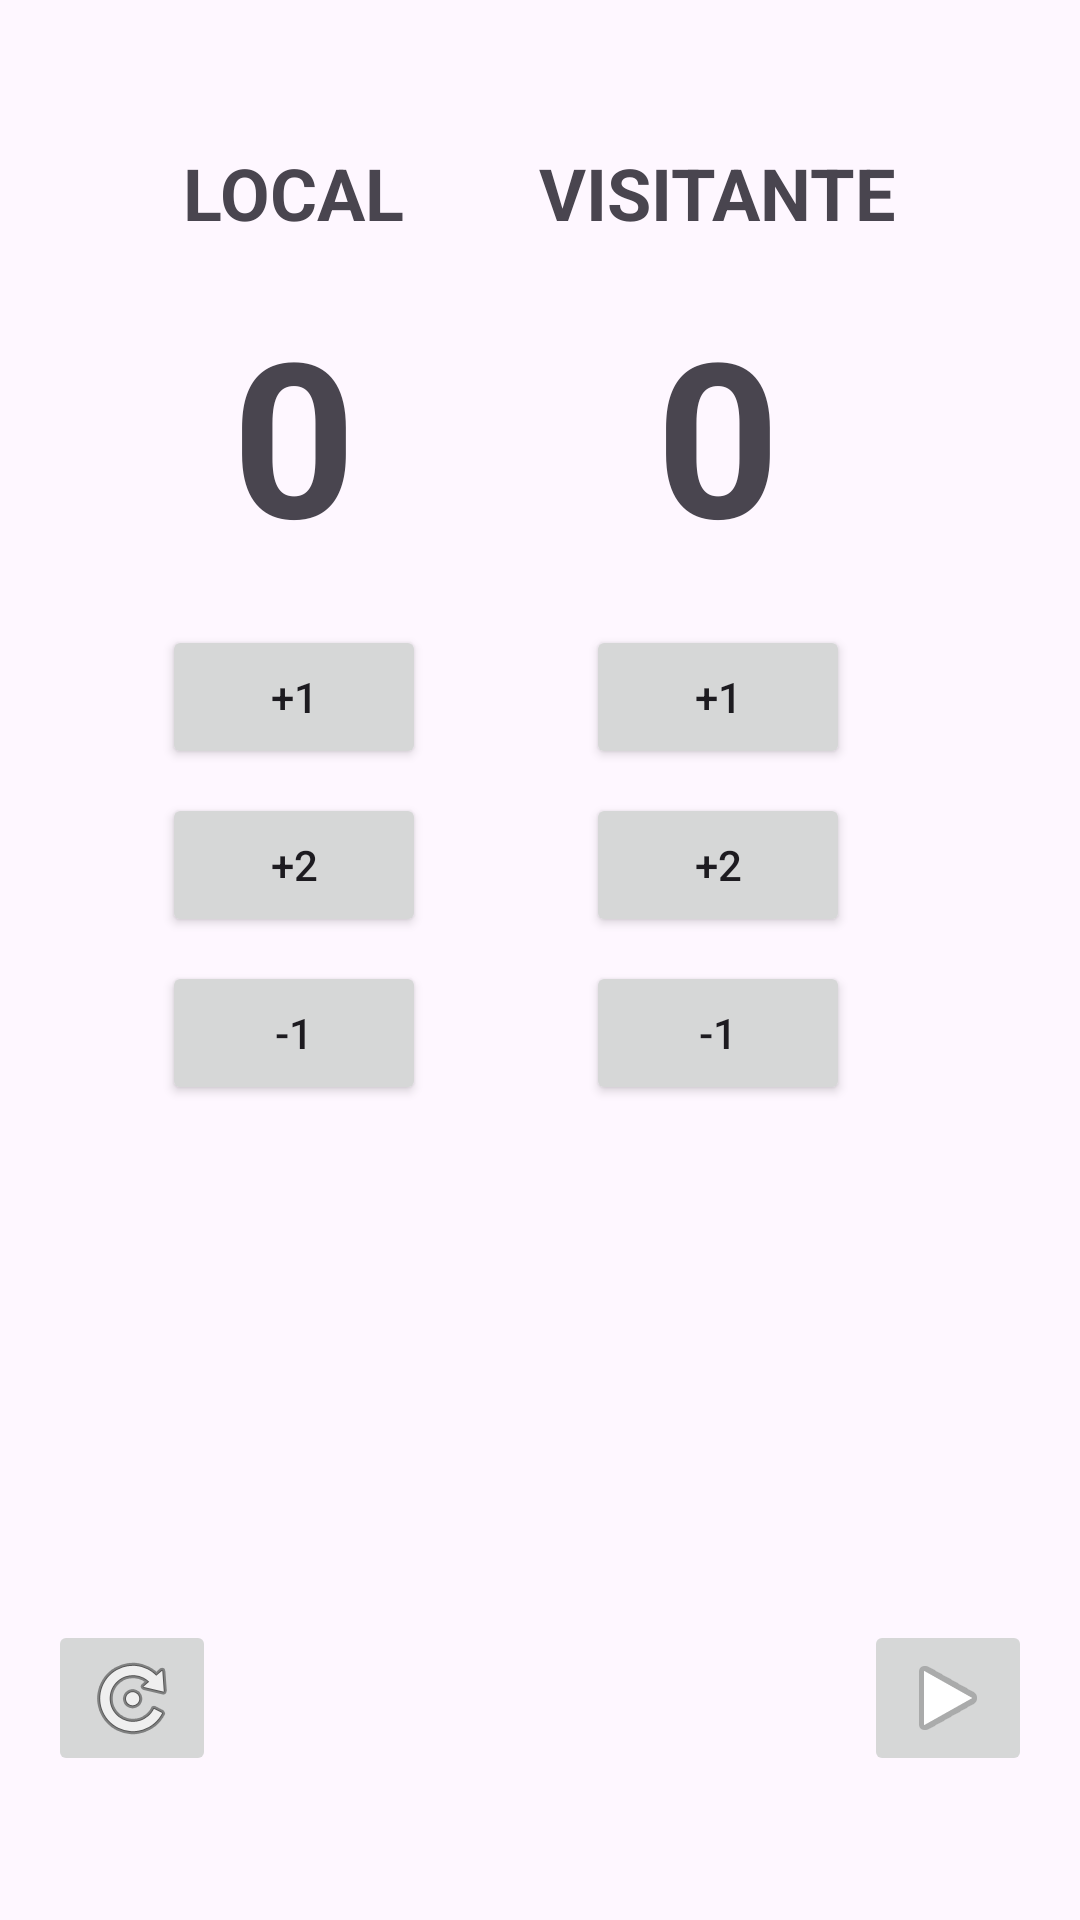

Icon click points for this 1080x1920 phone screenshot, format (x=x, y=y):
Reiniciar marcador: (x=132, y=1698)
